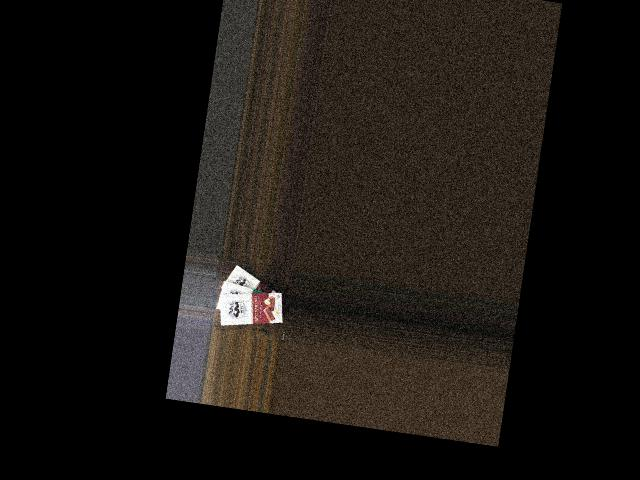chocolate: (217, 262, 289, 313)
